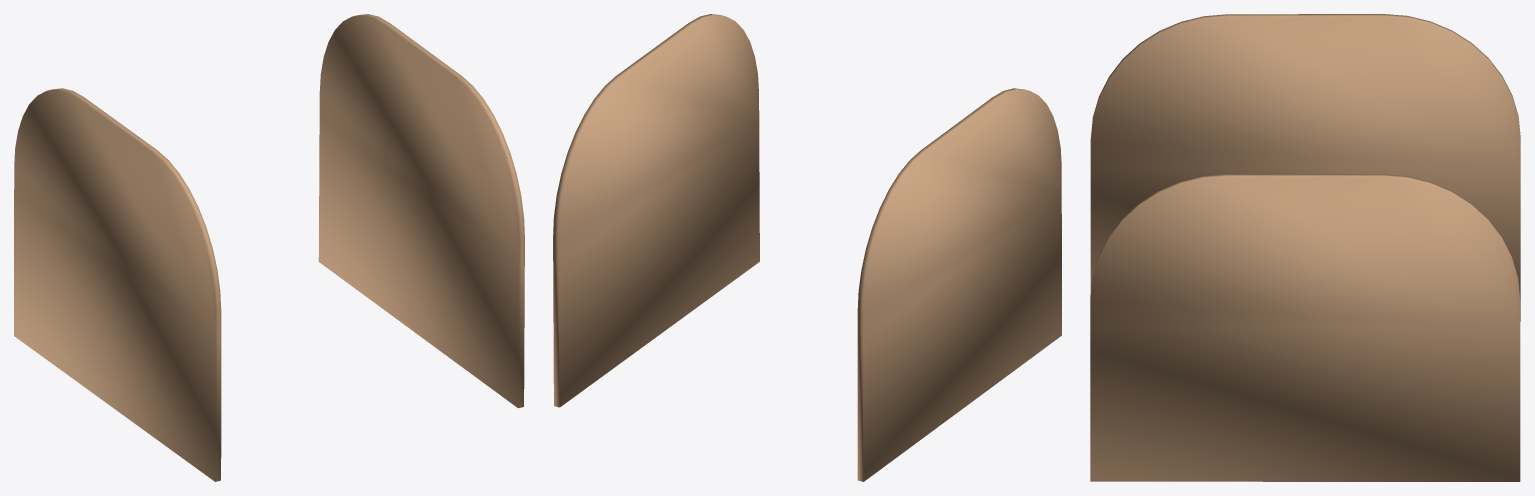
File: cubiculo.003.fbx
The picture shows the model from 3 angles, left to right: view 1: azimuth 30°, elevation 25°; view 2: azimuth 150°, elevation 25°; view 3: azimuth 270°, elevation 25°; orthographic projection. The views are drawn at different scales.
Parts seen in each view (by area): view 1: cubiculo.003; view 2: cubiculo.003; view 3: cubiculo.003.
Part boxes in pixels (box(x1,y1,x2,y2)): cubiculo.003: box(14, 14, 524, 481); cubiculo.003: box(553, 14, 1061, 481); cubiculo.003: box(1090, 14, 1520, 481).
Size of the model in its own units: 2.3 by 2 by 2.56.
